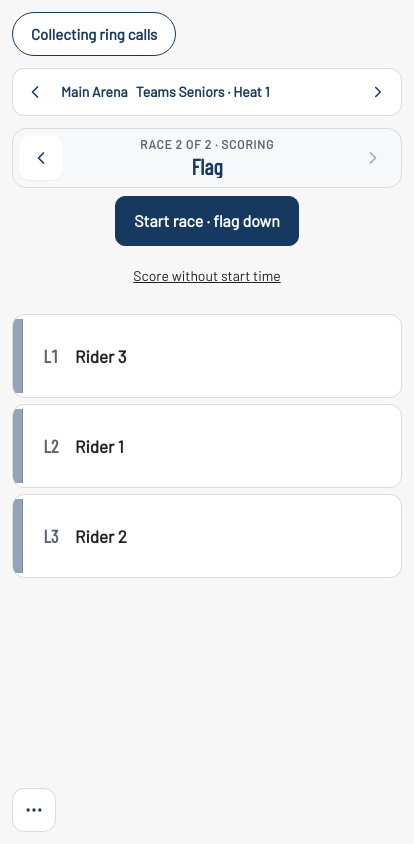
Test: SessionPage › draft placings › shows the saved results of a finished race when there is no draft, without keeping them as a draft
Click the button named "Previous race". click: (41,158)
box: [19,136,63,180]
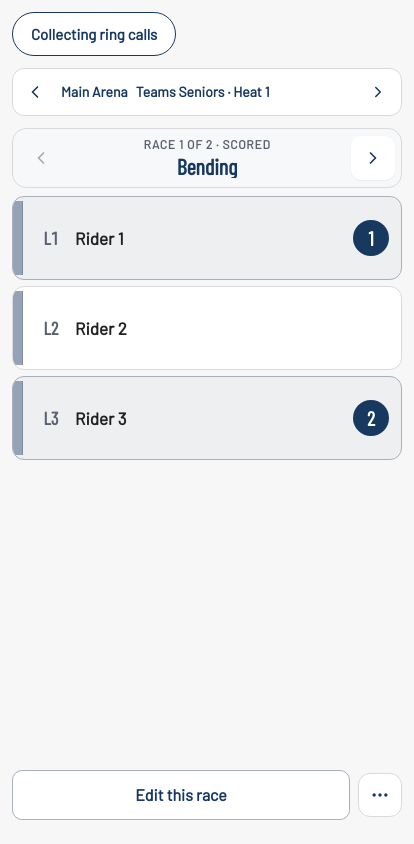
Expected: the text labelled "2" is shown, [353,400,389,436]
Result: the text labelled "1" is shown at [353,220,389,256]
